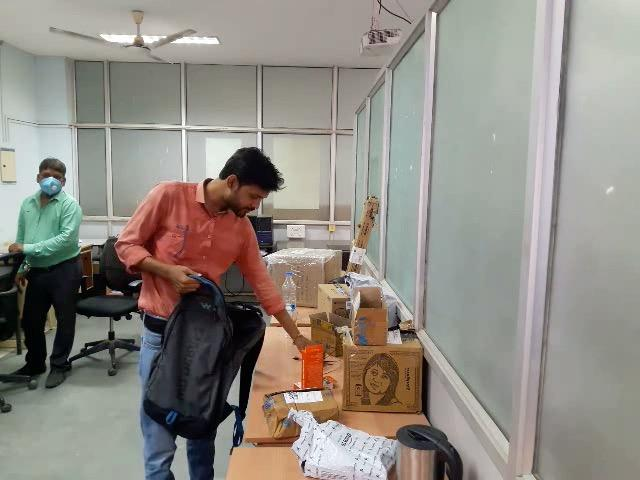shoplifting: (110, 222, 329, 480)
